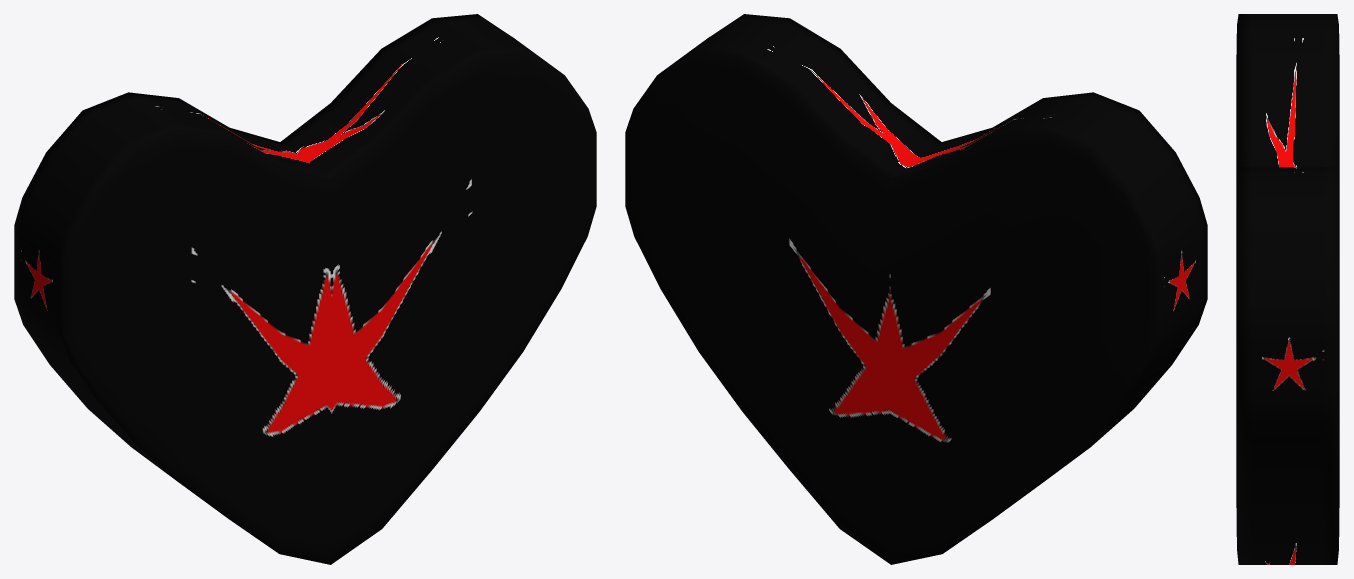
File: Heart.FBX
3 renders of one model, left to right at view 1: azimuth 30°, elevation 25°; view 2: azimuth 150°, elevation 25°; view 3: azimuth 270°, elevation 25°, orthographic. The views are drawn at different scales.
Parts seen in each view (by area): view 1: Box001; view 2: Box001; view 3: Box001.
Boxes of the visible parts, left/top/right/bottom form: Box001: left=14, top=14, right=596, bottom=564; Box001: left=625, top=14, right=1207, bottom=564; Box001: left=1236, top=14, right=1339, bottom=564.
Size of the model in its own units: 243 by 41.72 by 206.
